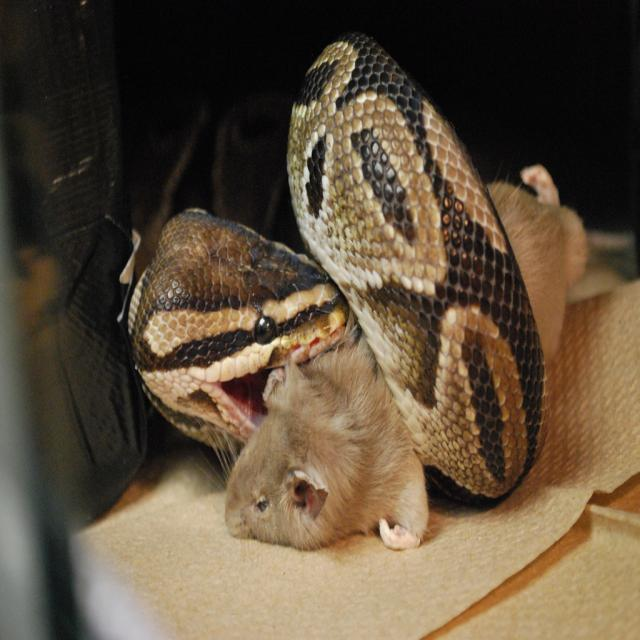rat: (223, 162, 594, 552)
